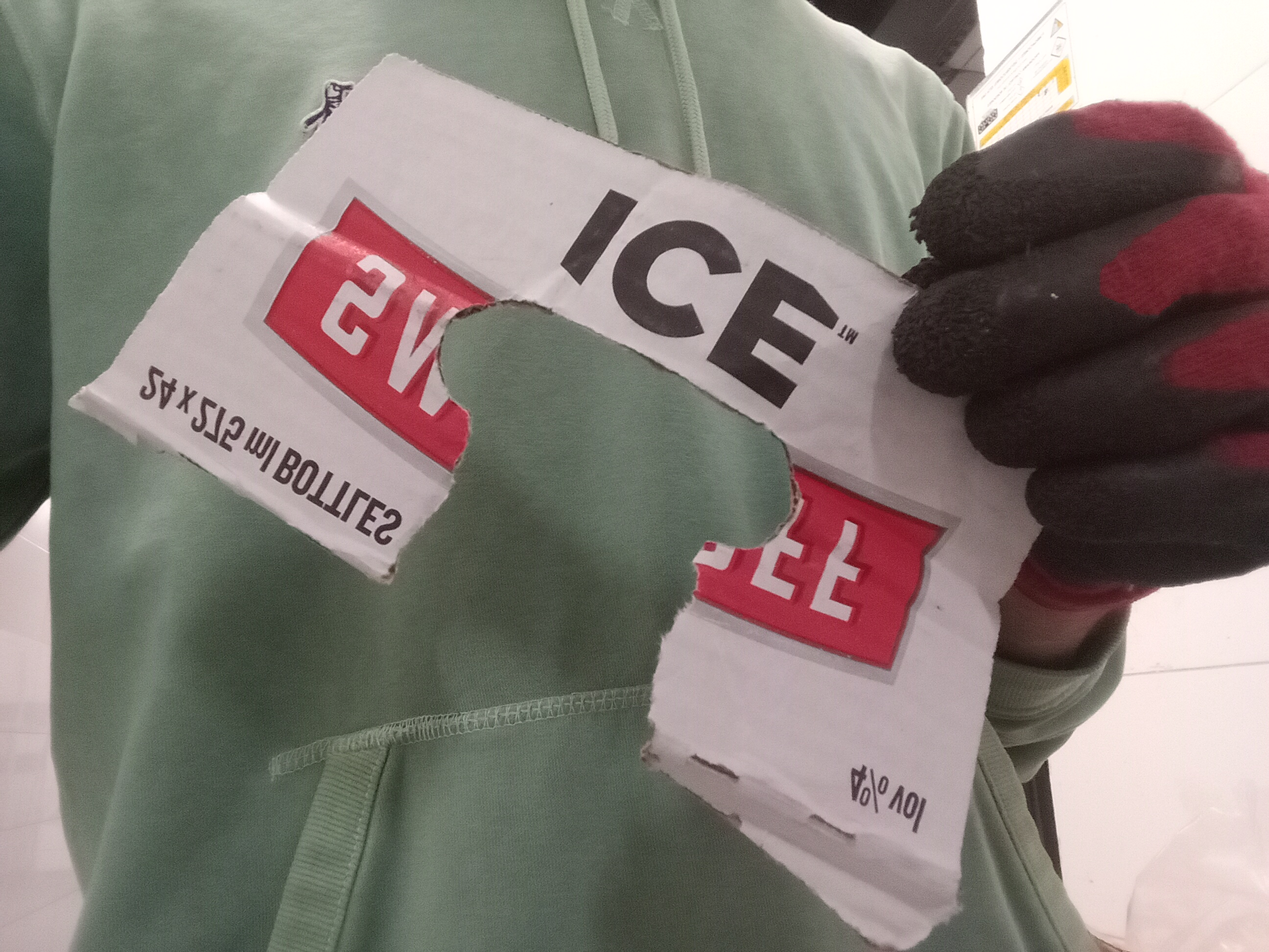Carton: (65, 54, 1078, 952)
